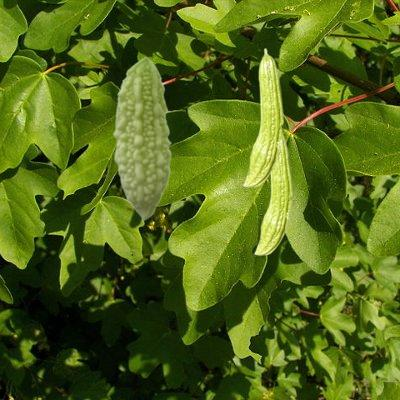ampalaya: (112, 56, 172, 221), (242, 47, 284, 188), (252, 135, 293, 257)
